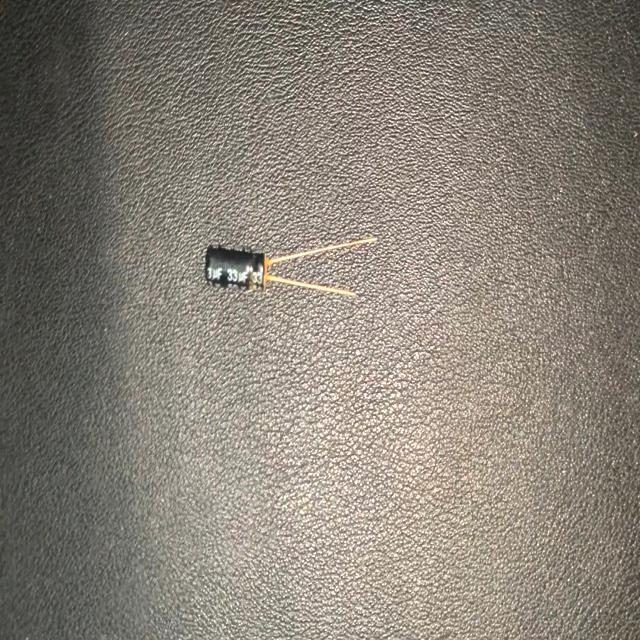defective: (240, 224, 279, 309)
